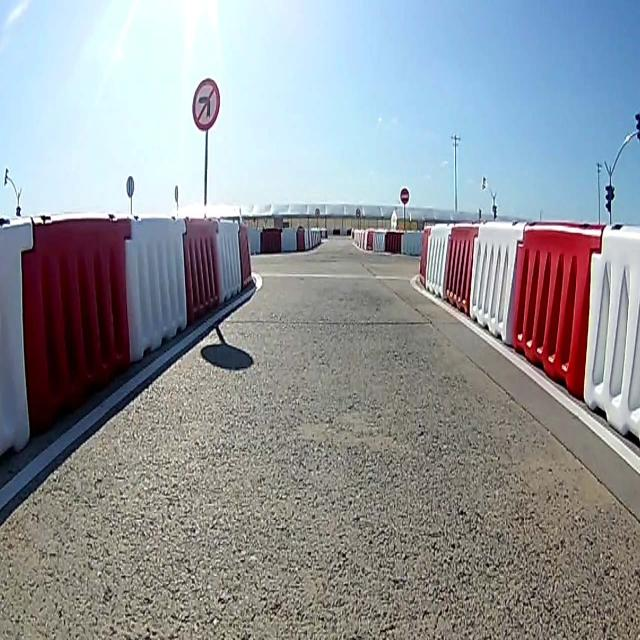girisyok: (399, 185, 410, 207)
soladonulmez: (193, 76, 219, 132)
